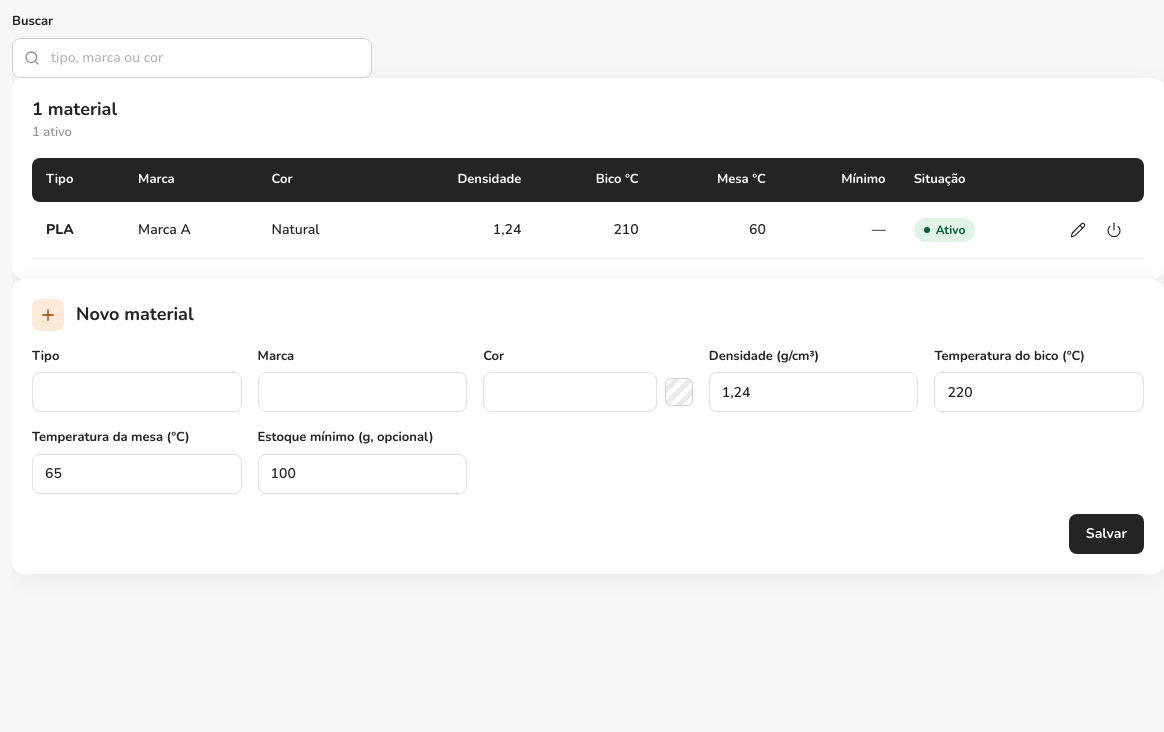
Materials page › admin edits a material without reloading
Click the button named "Editar". click: (1078, 230)
box: x1=1062 y1=214 x2=1094 y2=246
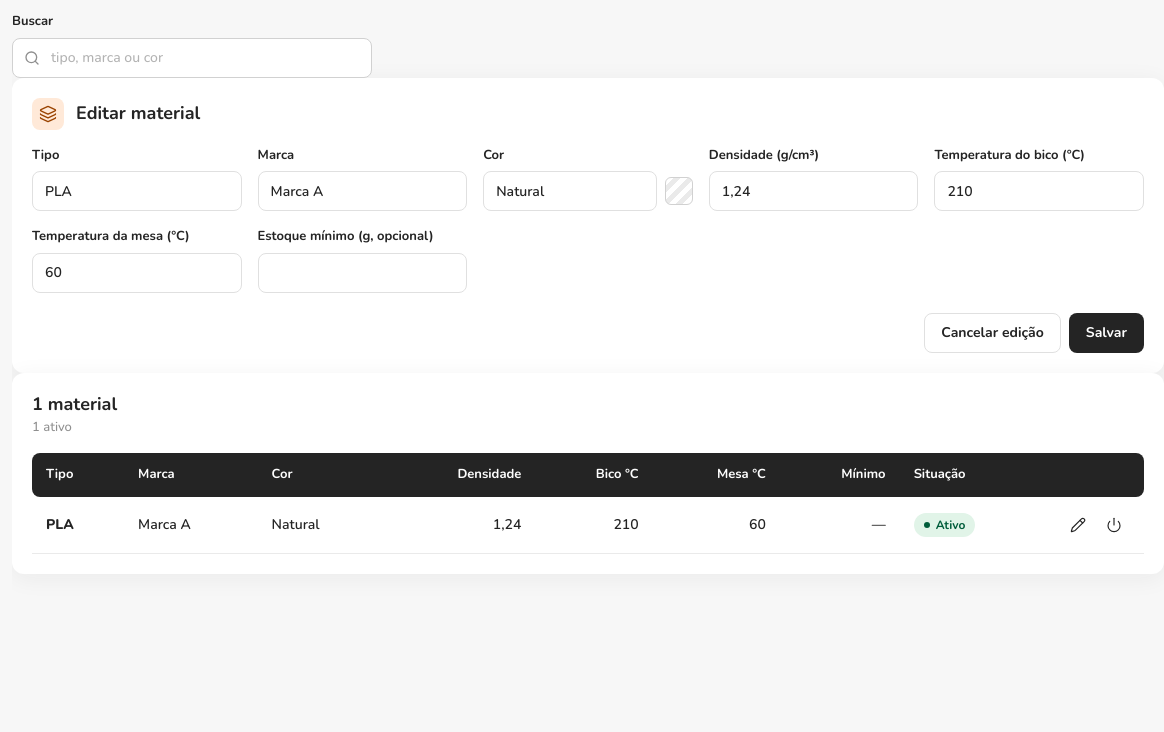
Replace the text in the field labelled "Cor" with "Vermelho". click: (570, 191)
box: x1=483 y1=171 x2=657 y2=211
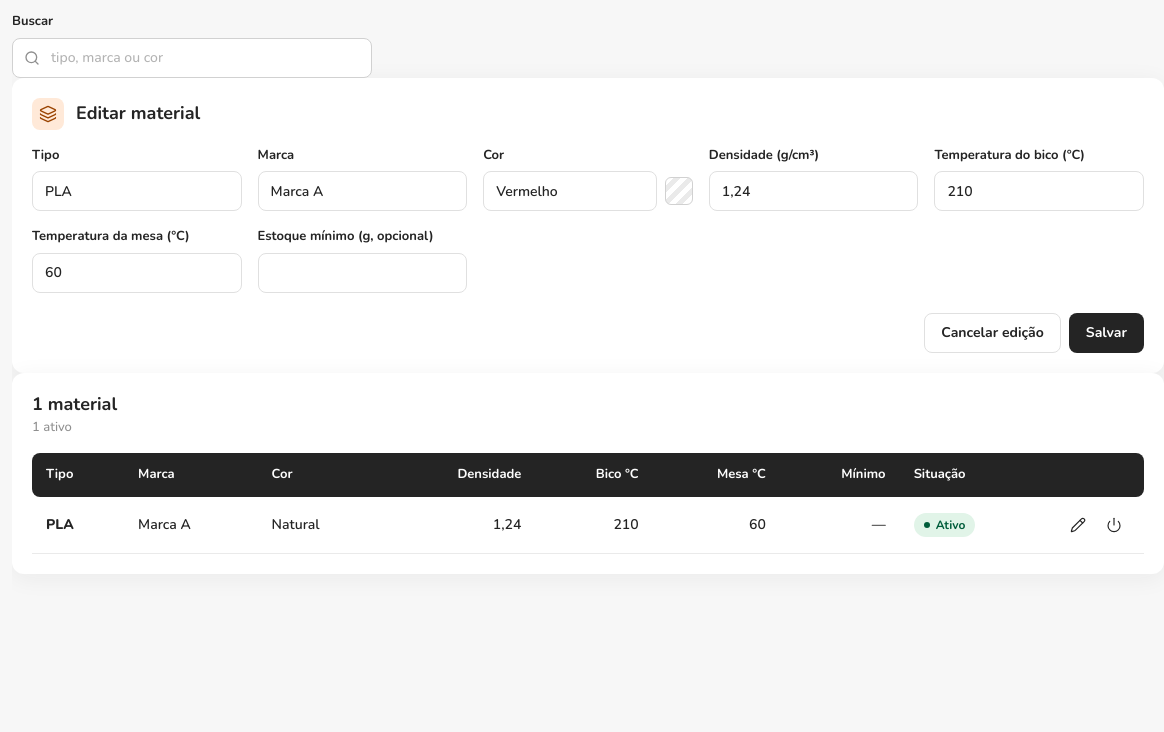
Click the button "Salvar". click: (1106, 332)
box: x1=1069 y1=312 x2=1144 y2=352
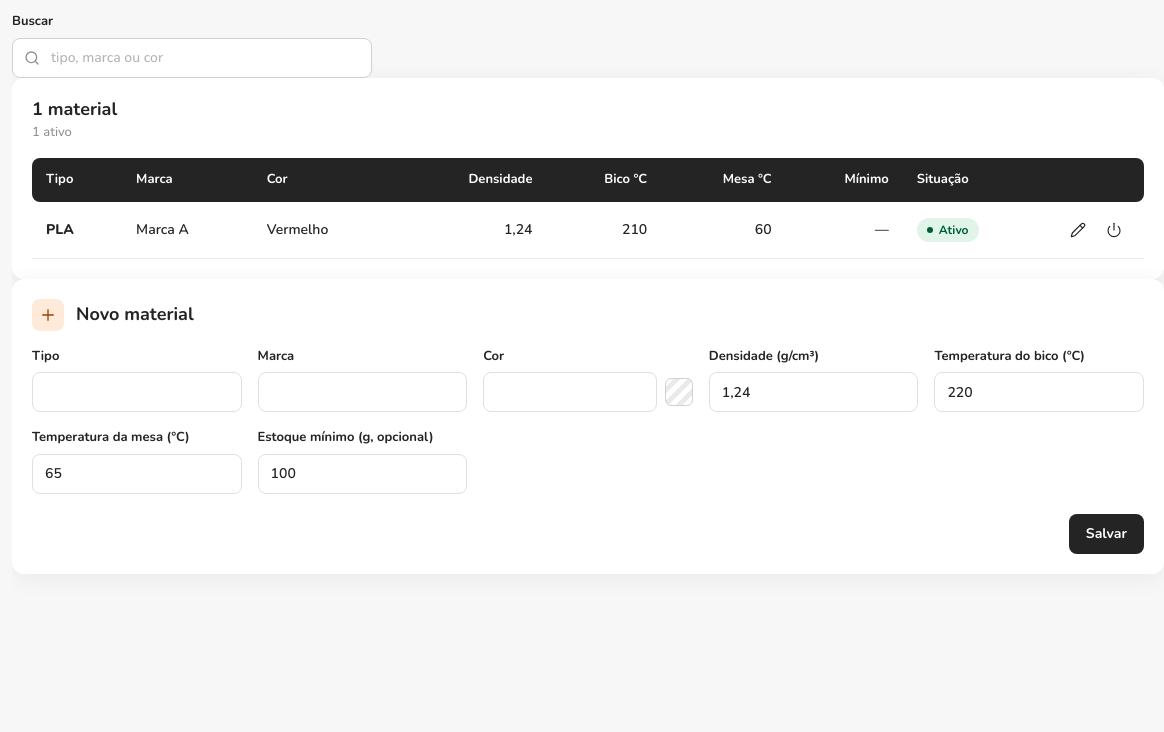
Expected: the text "Vermelho" is shown, x1=253 y1=202 x2=398 y2=259
